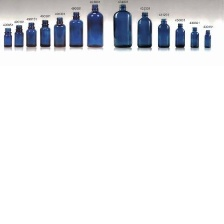bottle: (110, 0, 135, 49), (85, 3, 106, 50), (135, 7, 153, 48), (67, 10, 85, 49), (52, 14, 68, 49), (156, 16, 172, 48), (38, 19, 51, 50), (173, 23, 187, 50), (25, 21, 37, 50), (12, 23, 25, 48), (187, 25, 200, 49), (202, 29, 214, 49), (2, 26, 12, 48)
